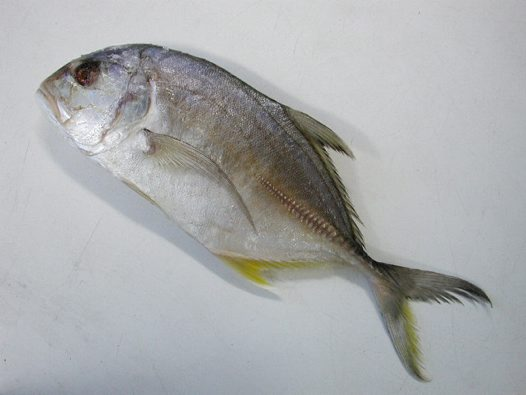fish: (36, 45, 493, 383)
